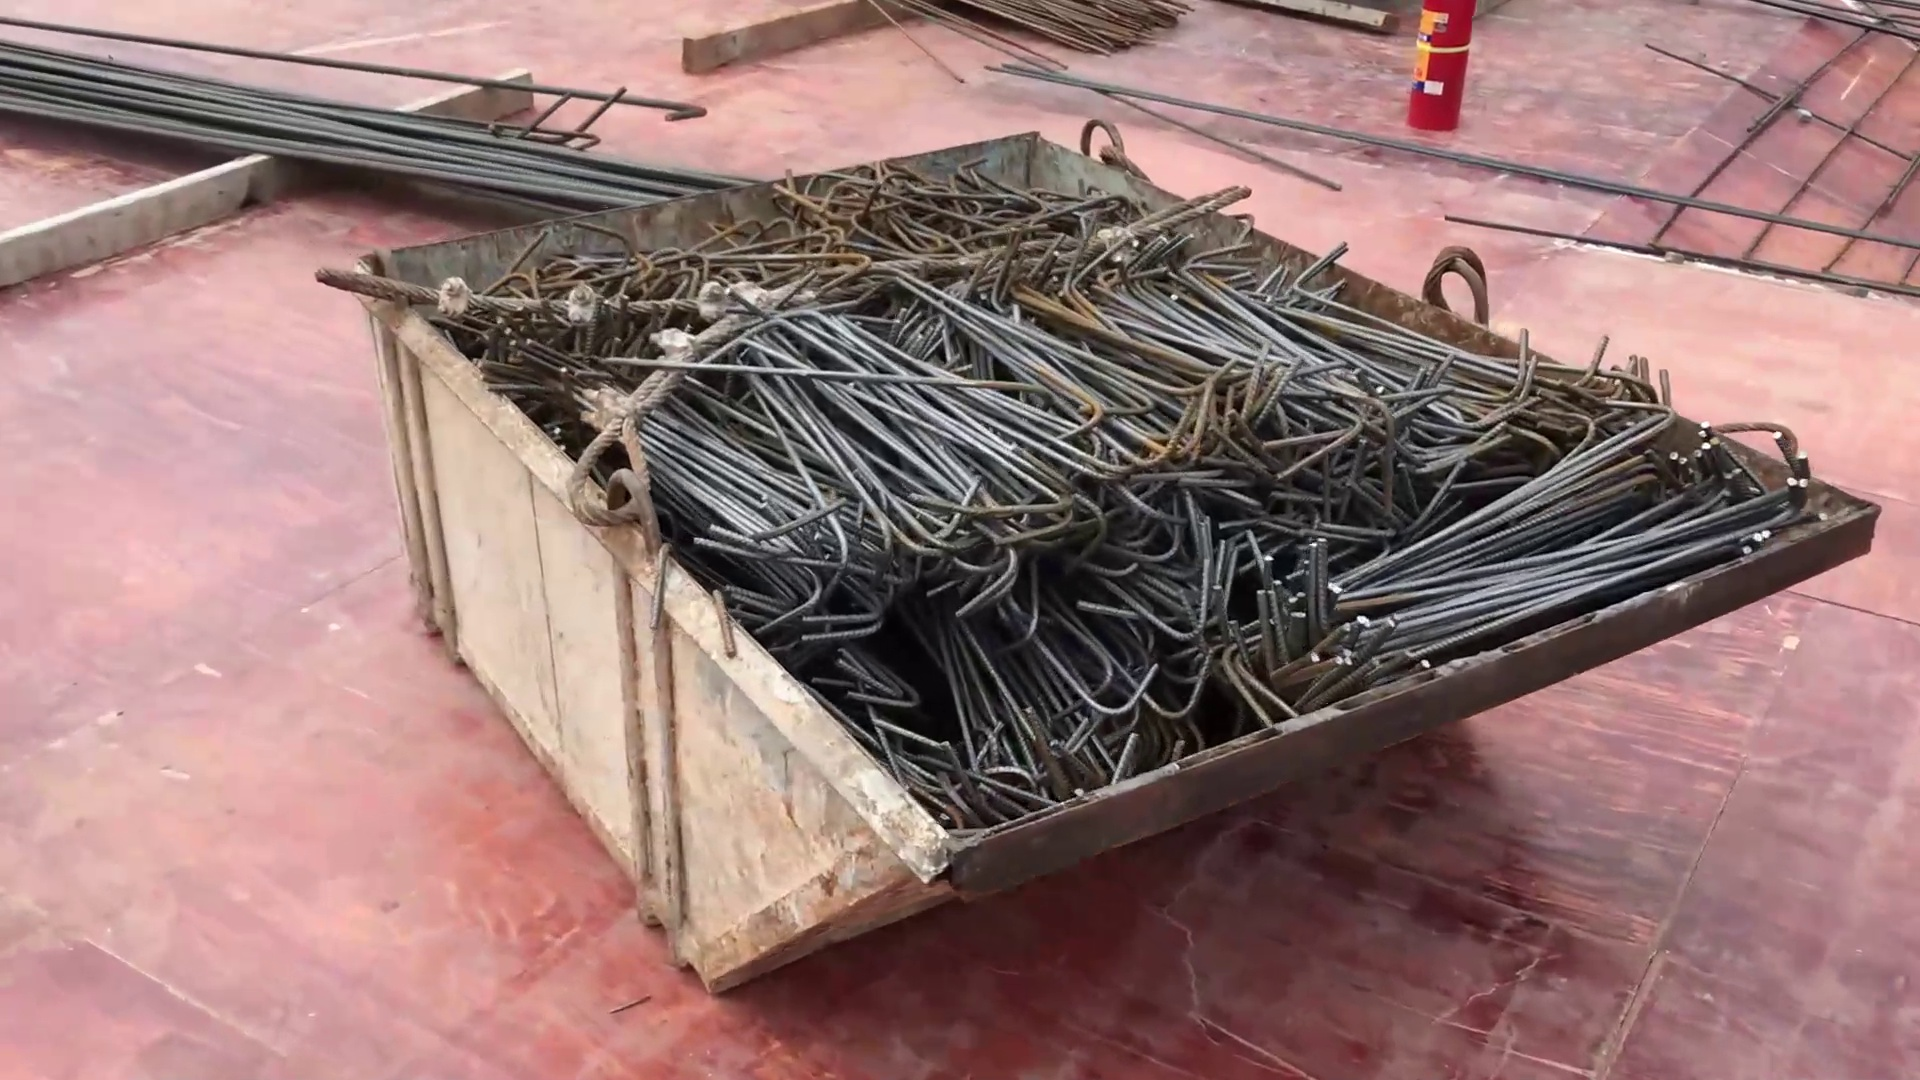hopper: (223, 51, 1875, 1033)
rebar: (13, 11, 618, 208)
